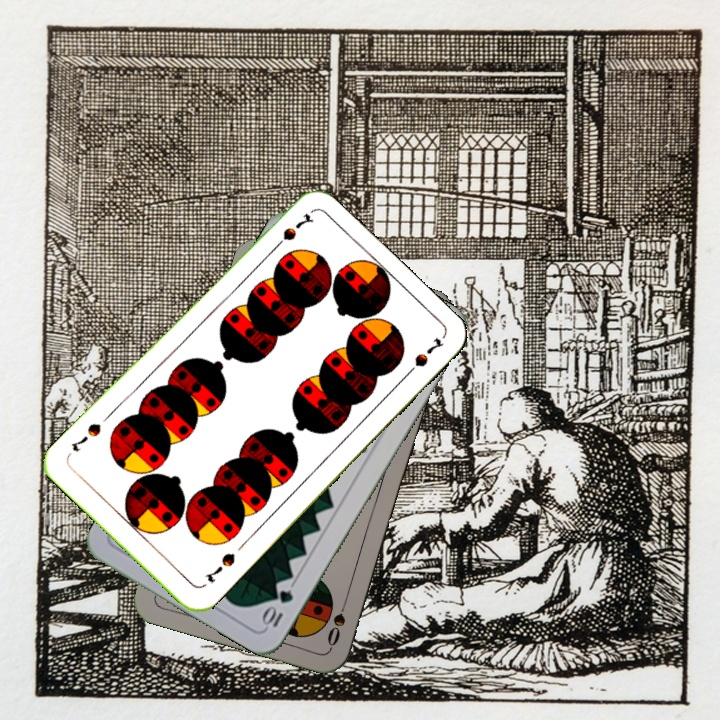G10: (259, 586, 296, 631)
S7: (267, 209, 316, 254), (199, 548, 238, 585)
SO: (323, 592, 351, 649)
